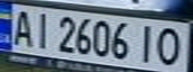0: (90, 17, 115, 59)
2: (51, 12, 78, 54)
6: (109, 19, 136, 61), (72, 16, 93, 56)
A: (6, 7, 36, 47)
I: (133, 21, 160, 64), (30, 9, 54, 50)
O: (151, 25, 187, 68)
